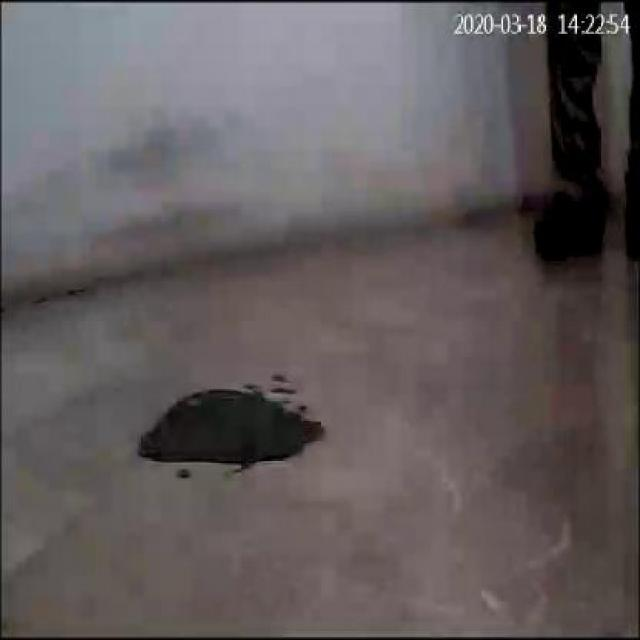spill: (130, 382, 328, 472)
